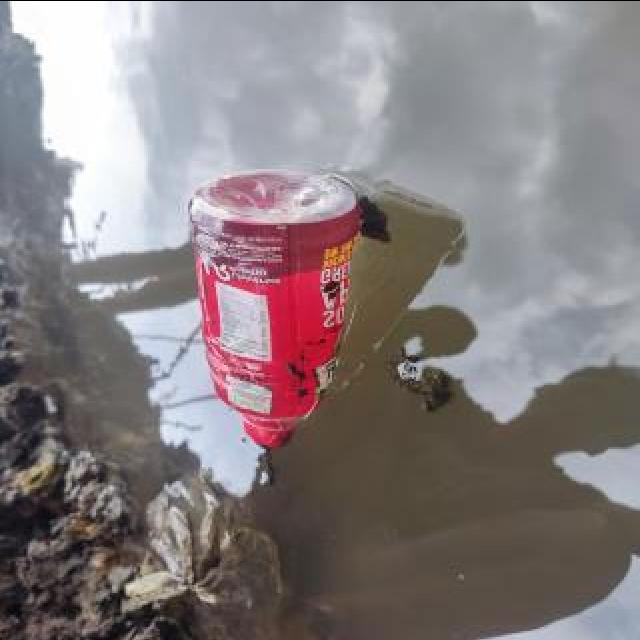Bottle: (178, 162, 368, 462)
